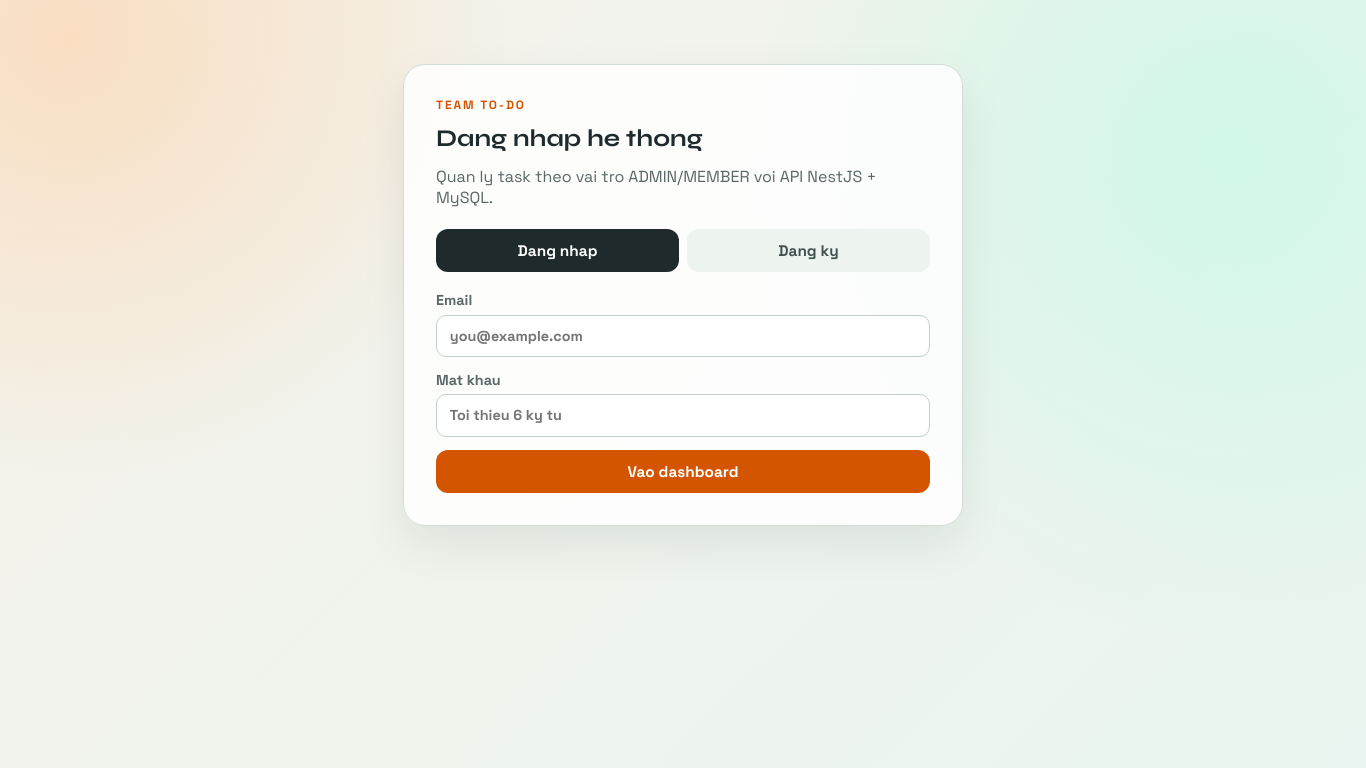
it: AuthPage › shows error message when login fails
In the field with placeholder "you@example.com": (683, 336) [436,315,930,357], type "bad@demo.com"
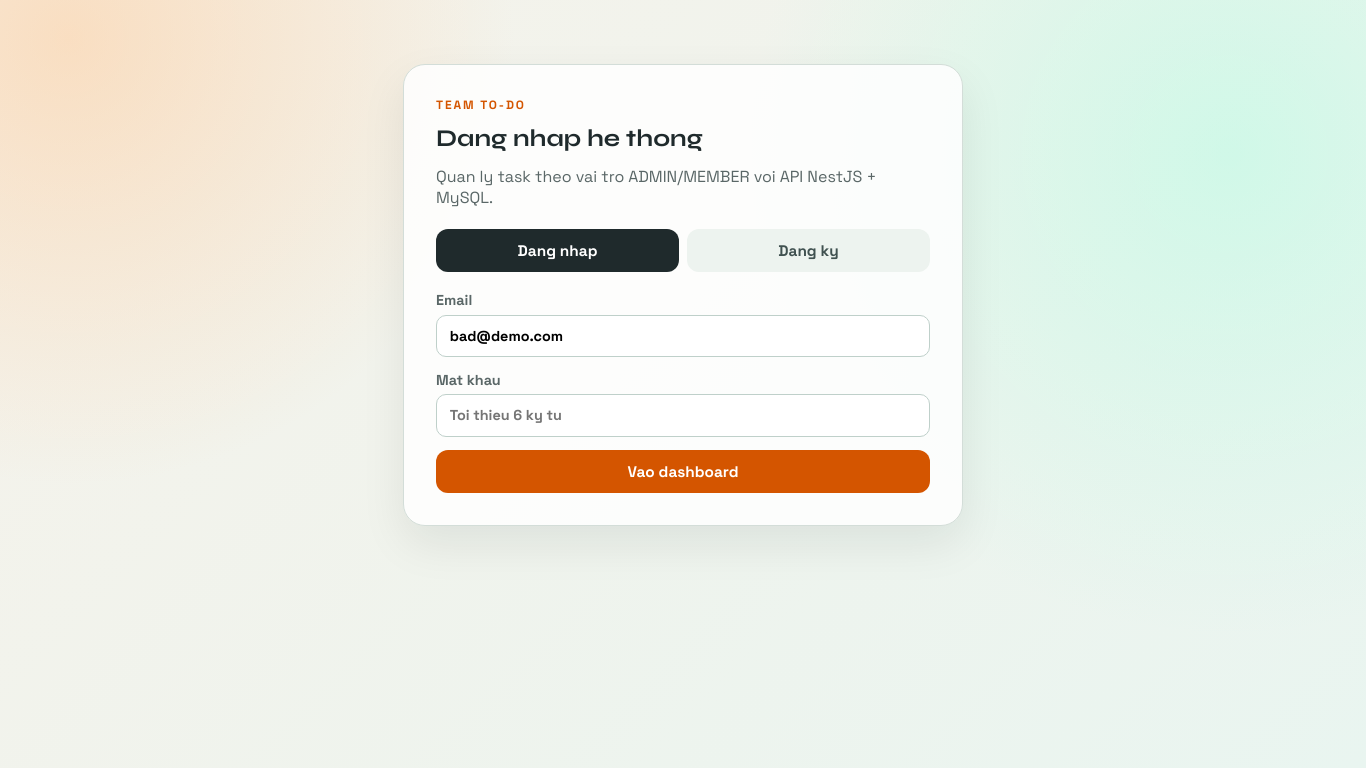
In the password field with placeholder "Toi thieu 6 ky tu": (683, 415) [436,394,930,436], type "wrongpass"
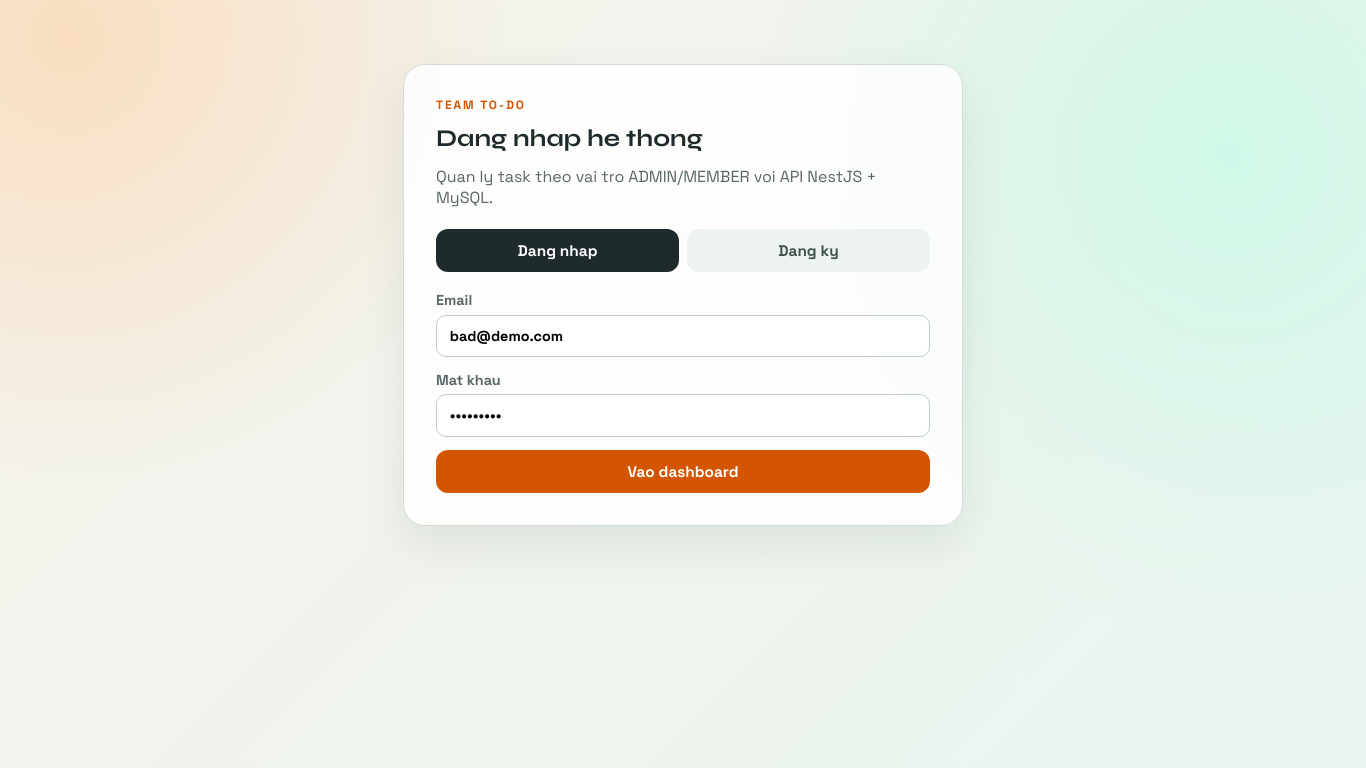
Click the button "Vao dashboard": (683, 472) [436,450,930,493]
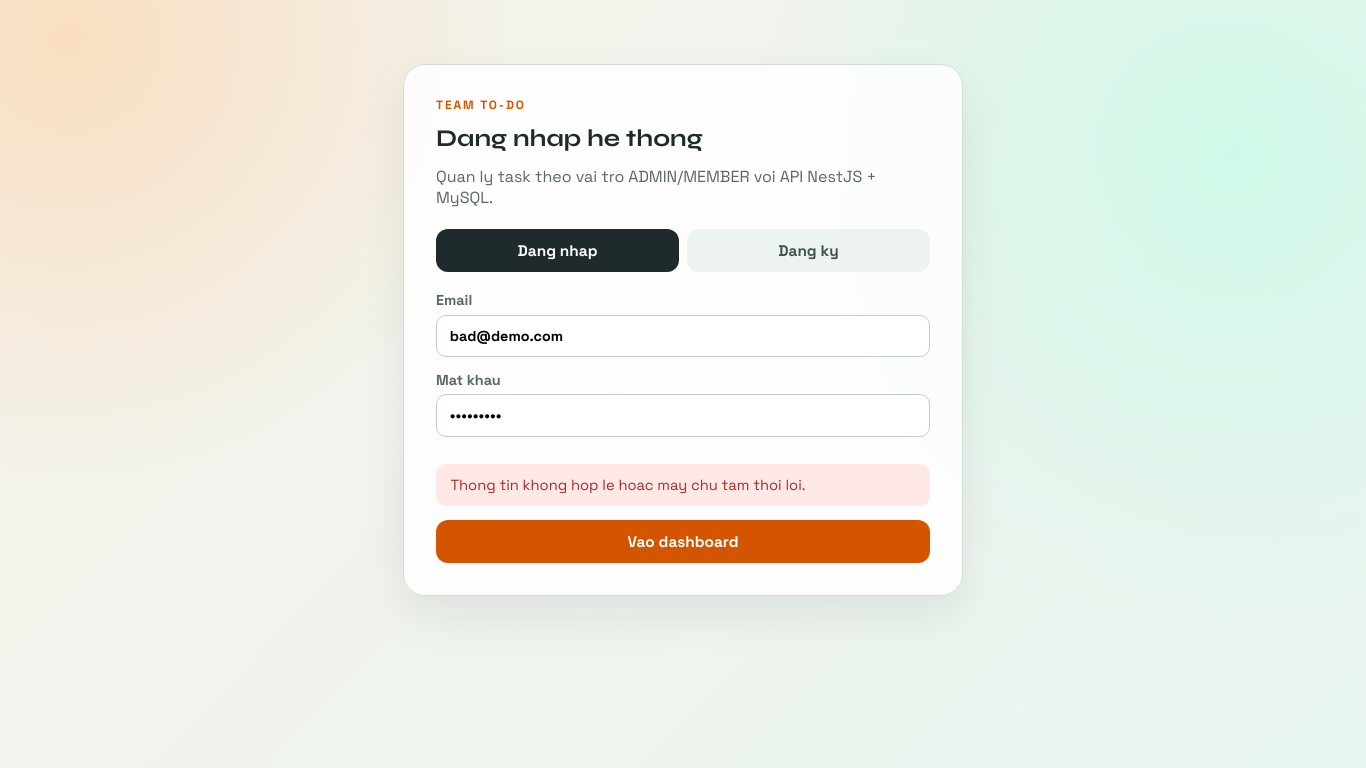
Expected: the text "Thong tin khong hop le hoac may chu tam thoi loi." is shown, [436,464,930,506]
